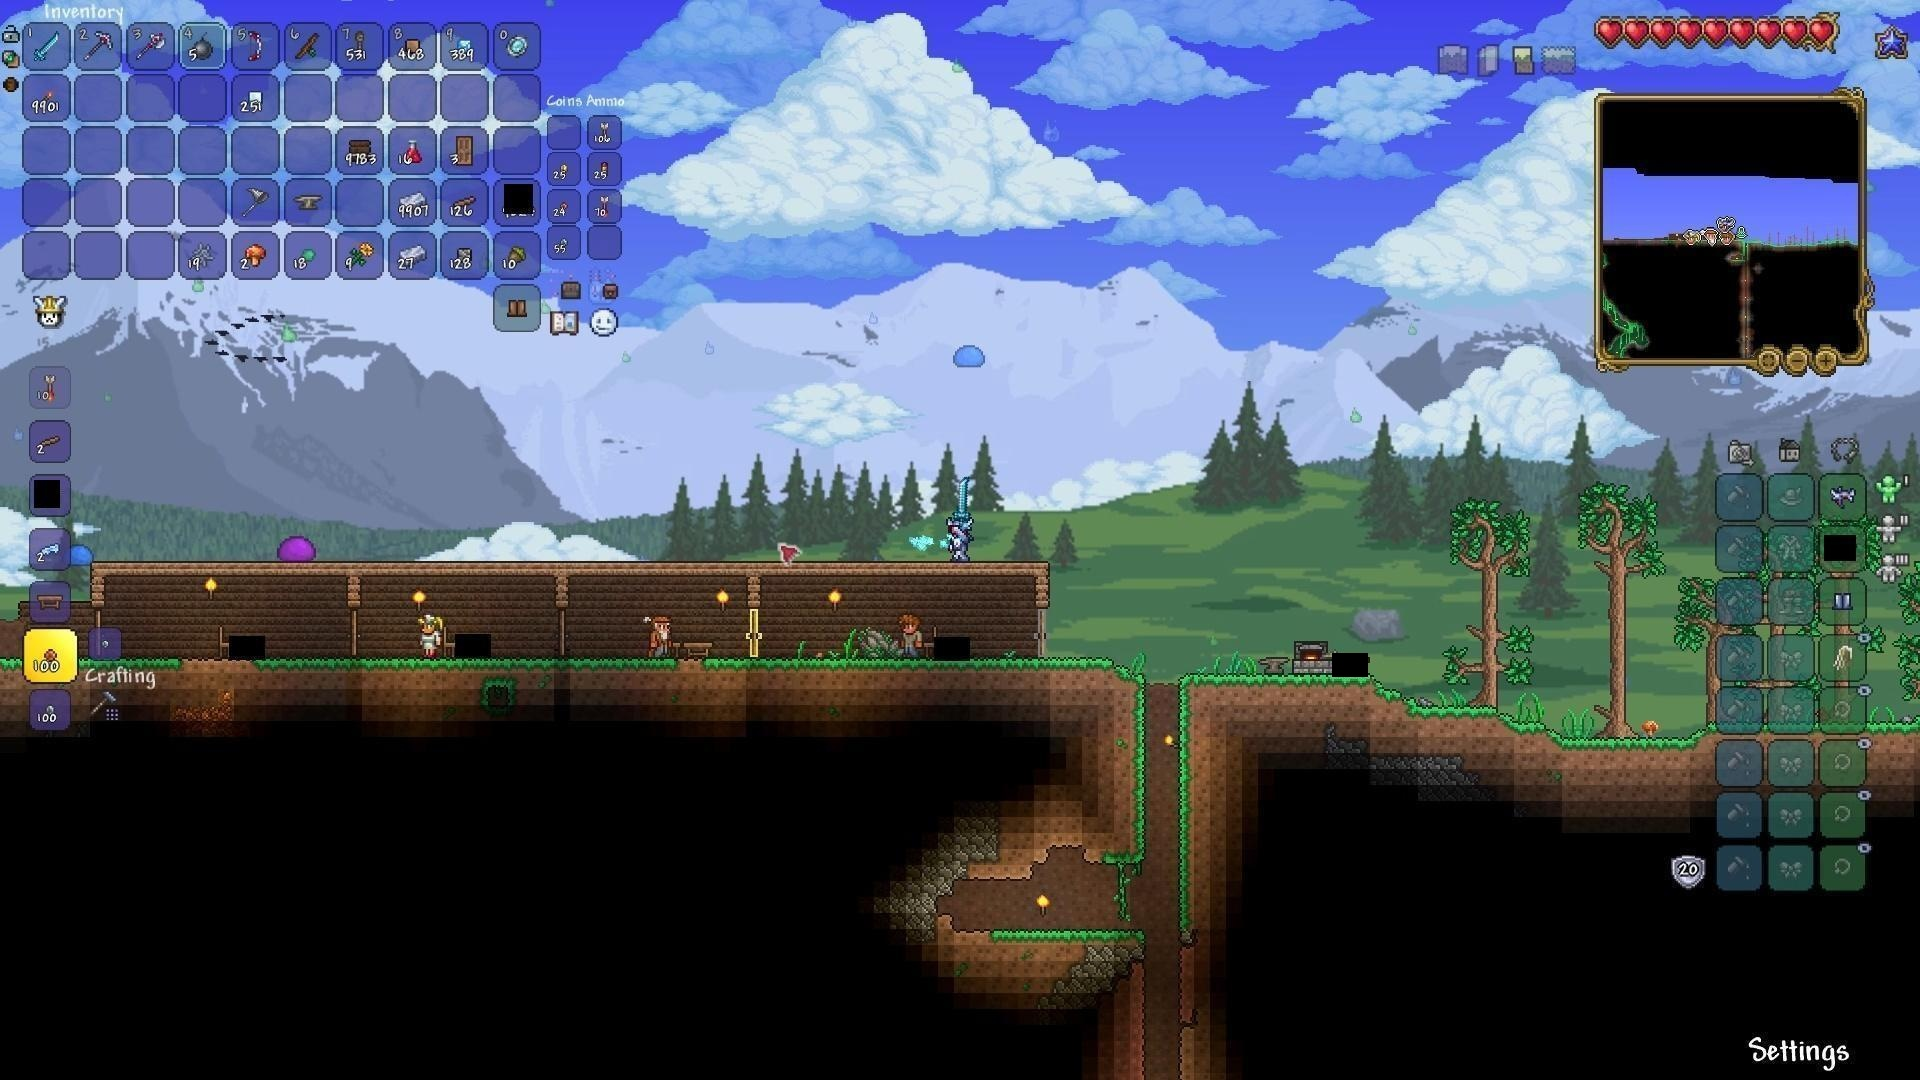helmet: (1828, 483, 1863, 514)
legs: (504, 291, 529, 322), (1829, 585, 1854, 615)
slime: (278, 533, 318, 564), (949, 342, 992, 371)
workbench: (32, 587, 66, 615), (680, 638, 715, 661)
